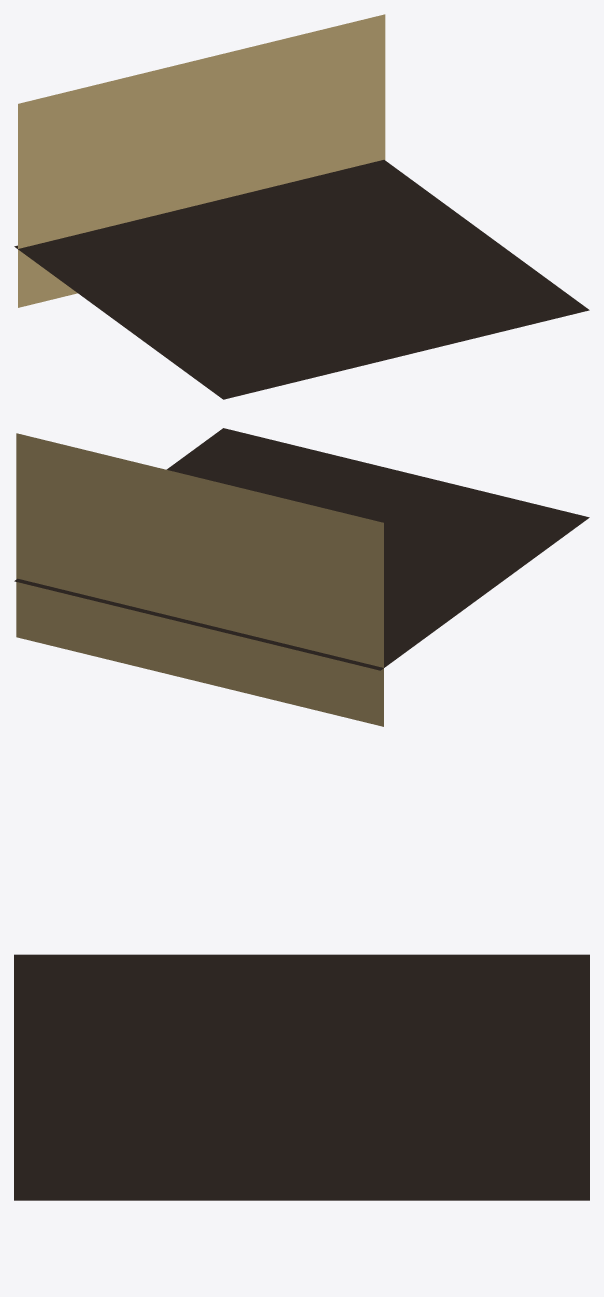
The model's file is Parede.fbx.
The picture shows the model from 3 angles, top to bottom: view 1: azimuth 30°, elevation 25°; view 2: azimuth 150°, elevation 25°; view 3: azimuth 270°, elevation 25°; orthographic projection. The views are drawn at different scales.
Parts seen in each view (by area): view 1: Plane; view 2: Plane; view 3: Plane.
Part boxes in pixels (box(x1,y1,x2,y2)): Plane: box(14, 14, 589, 399); Plane: box(14, 428, 589, 726); Plane: box(14, 954, 589, 1200).
Size of the model in its own units: 929 by 493 by 917.
